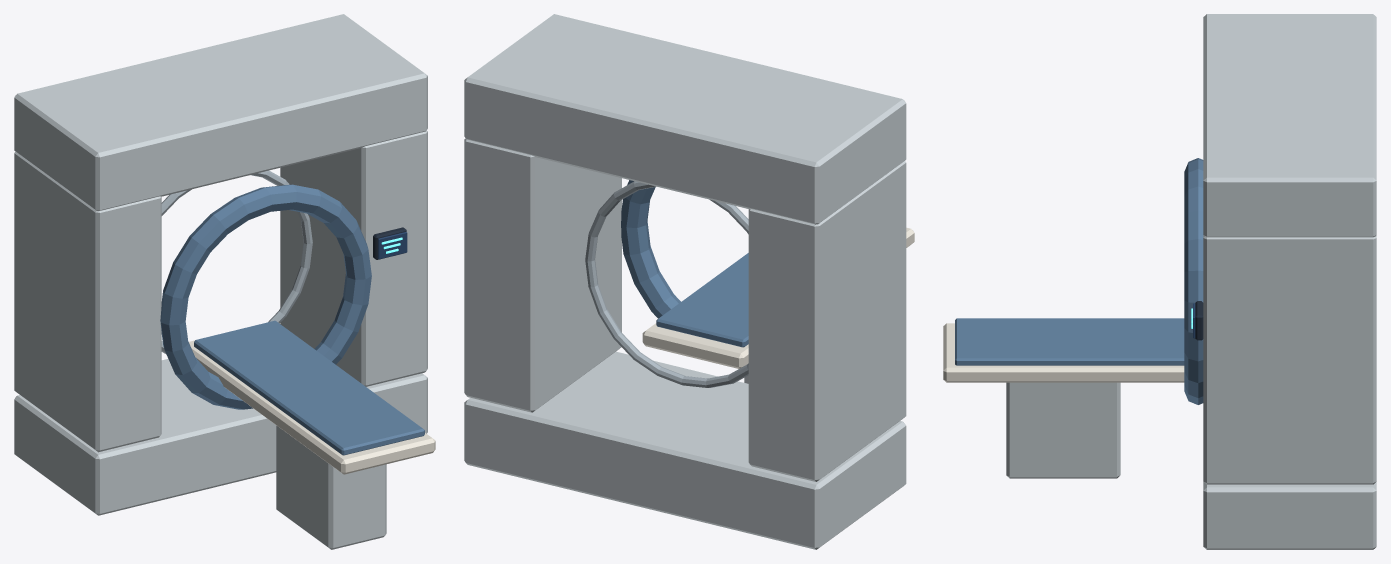
Rendered from clinic_07.glb.
3 renders of one model, left to right at view 1: azimuth 30°, elevation 25°; view 2: azimuth 150°, elevation 25°; view 3: azimuth 270°, elevation 25°, orthographic. The views are drawn at different scales.
Visible parts, largest first — view 1: MRISide (×2), MRITop, MRIBase, PatientPad, MRIPortal, ScanPedestal, ScanBed, BoreLining, Screen; view 2: MRISide (×2), MRITop, MRIBase, PatientPad, BoreLining, MRIPortal, ScanBed; view 3: MRISide, MRITop, MRIBase, ScanPedestal, PatientPad, ScanBed, MRIPortal.
Part boxes in pixels (x1,y1,x2,y2): MRISide (×2): [14, 130, 427, 452]; MRITop: [14, 14, 427, 210]; MRIBase: [14, 359, 427, 515]; PatientPad: [194, 320, 424, 455]; MRIPortal: [160, 184, 371, 409]; ScanPedestal: [276, 425, 386, 549]; ScanBed: [189, 340, 435, 474]; BoreLining: [161, 170, 312, 353]; Screen: [378, 232, 407, 259]; MRISide (×2): [464, 138, 906, 481]; MRITop: [464, 14, 906, 224]; MRIBase: [464, 351, 906, 549]; PatientPad: [656, 253, 748, 347]; BoreLining: [585, 181, 748, 387]; MRIPortal: [621, 180, 680, 318]; ScanBed: [642, 227, 914, 368]; MRISide: [1203, 235, 1376, 484]; MRITop: [1203, 14, 1376, 237]; MRIBase: [1203, 482, 1376, 549]; ScanPedestal: [1006, 382, 1120, 478]; PatientPad: [955, 318, 1184, 365]; ScanBed: [943, 323, 1184, 382]; MRIPortal: [1184, 158, 1203, 404].
Size of the model in its own units: 2 by 2.08 by 2.2.
